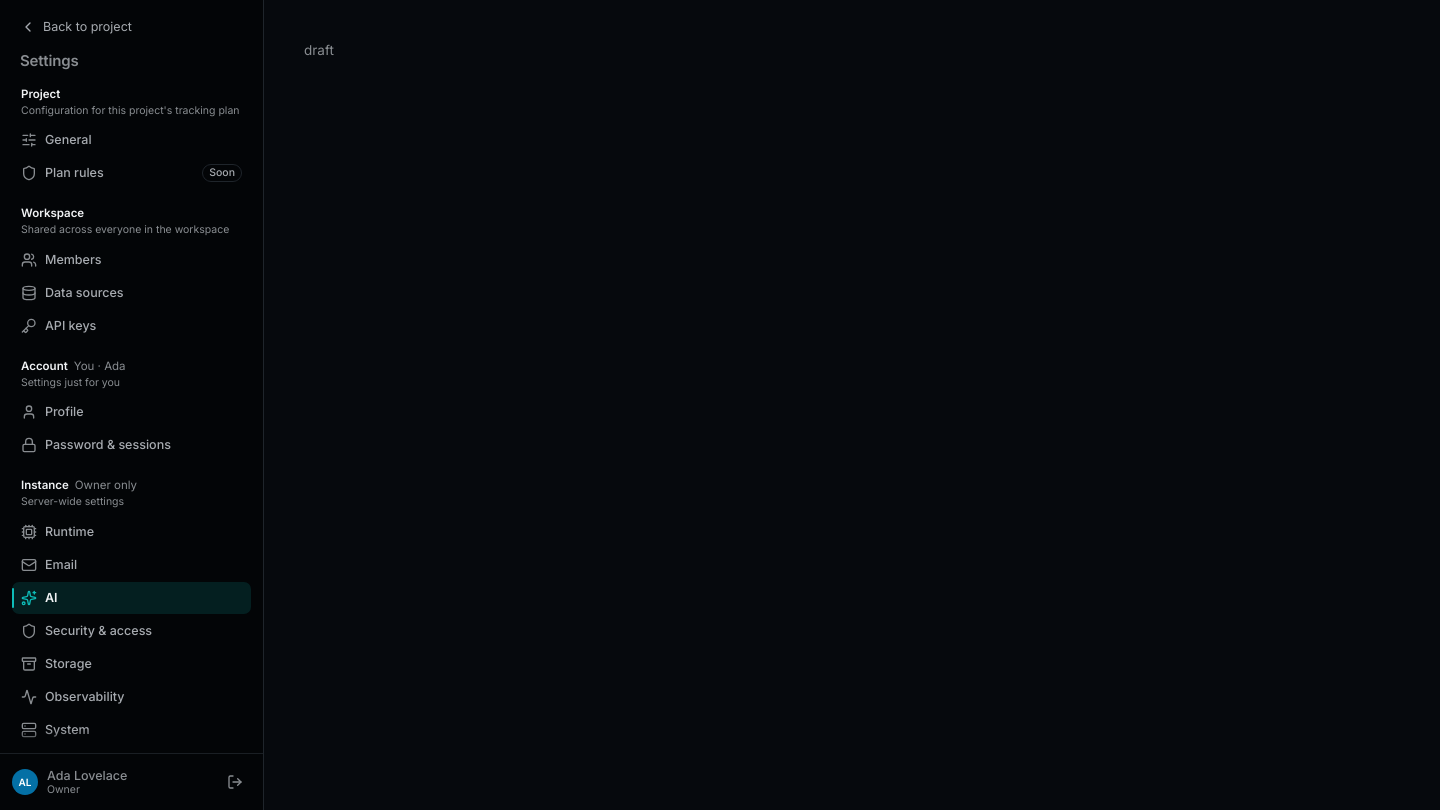
SettingsLayout unsaved-changes guard › warns before the command palette navigates the draft out of existence
The width and height of the screenshot is (1440, 810).
Step 1. Press k
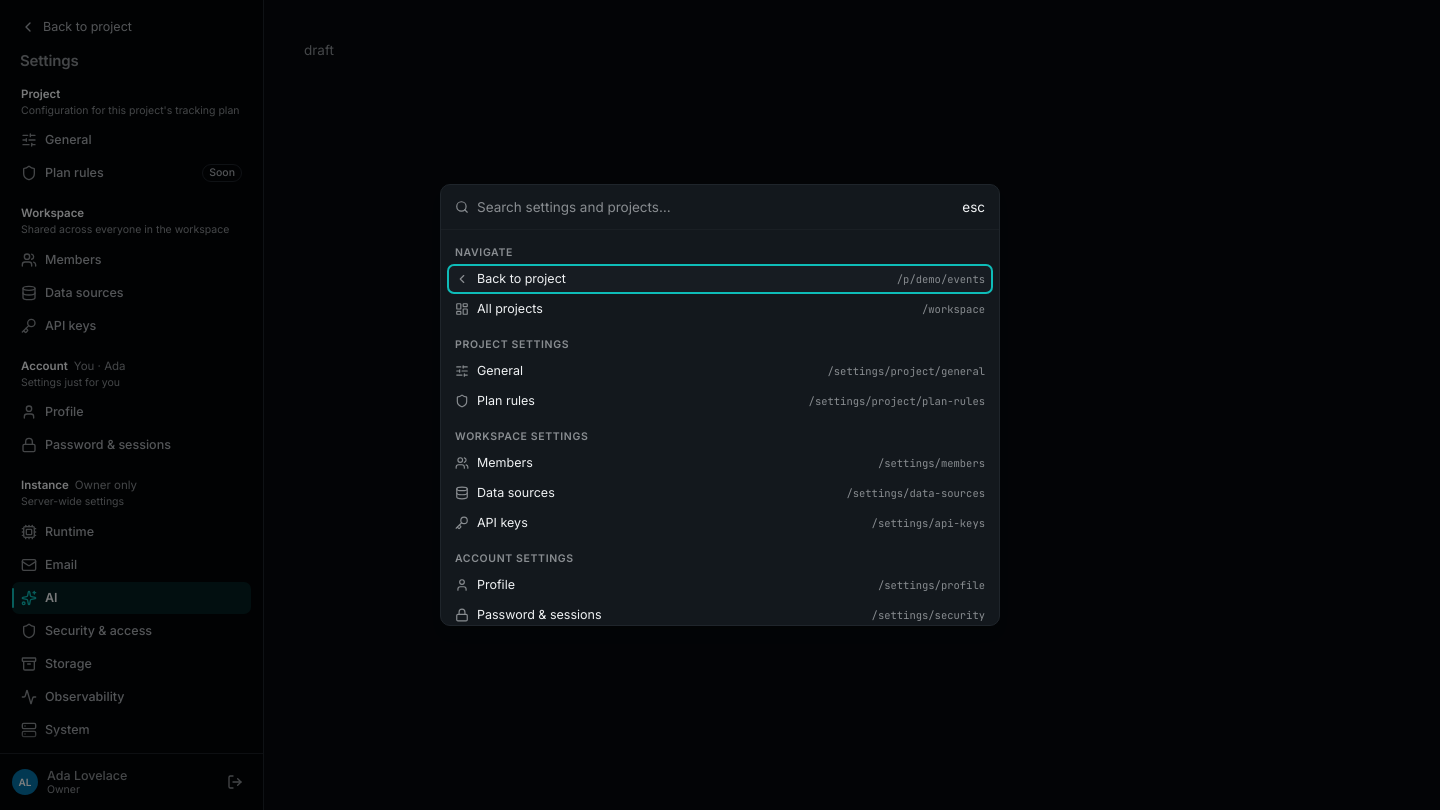
Step 2. Click the text "Profile" → (496, 584), box x1=477 y1=577 x2=515 y2=592
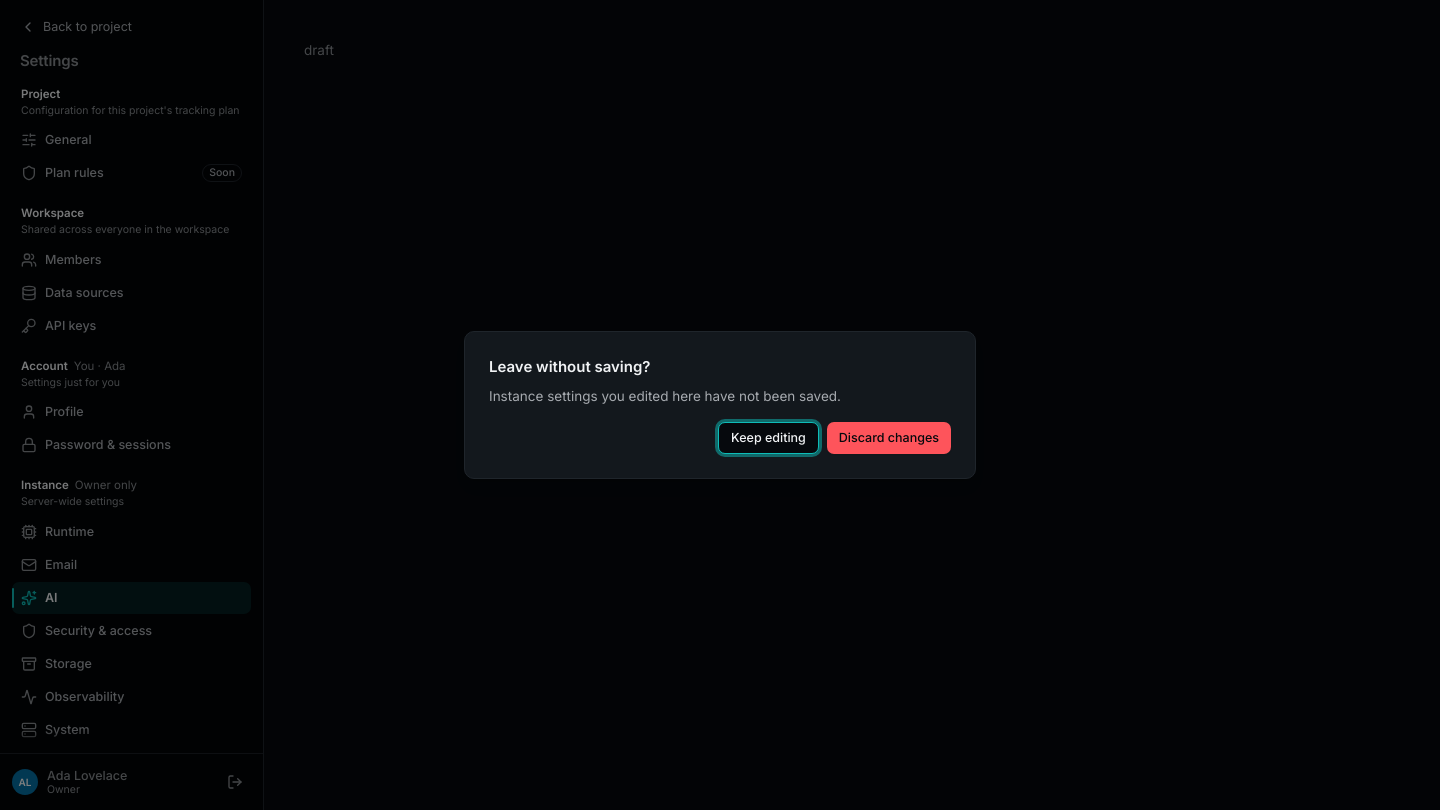
Expected: the dialog shows "Leave without saving?", x1=489 y1=357 x2=650 y2=376
Expected: the dialog shows "Instance settings you edited here have not been saved.", x1=489 y1=388 x2=841 y2=404
